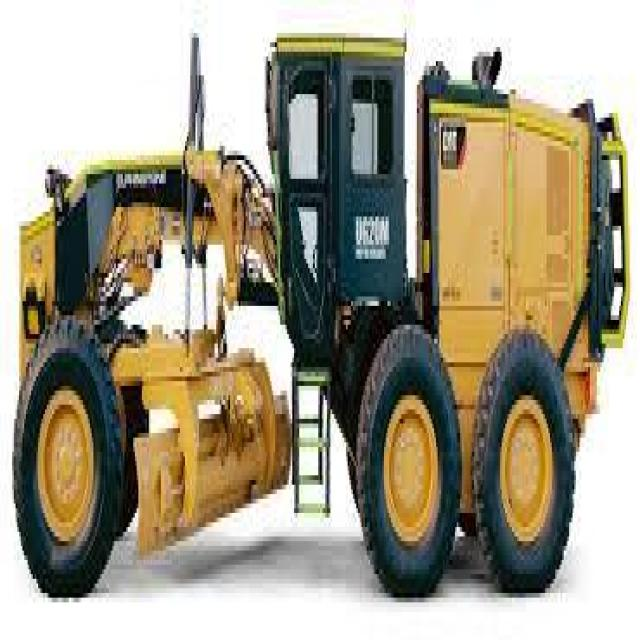Grader: (16, 33, 632, 616)
